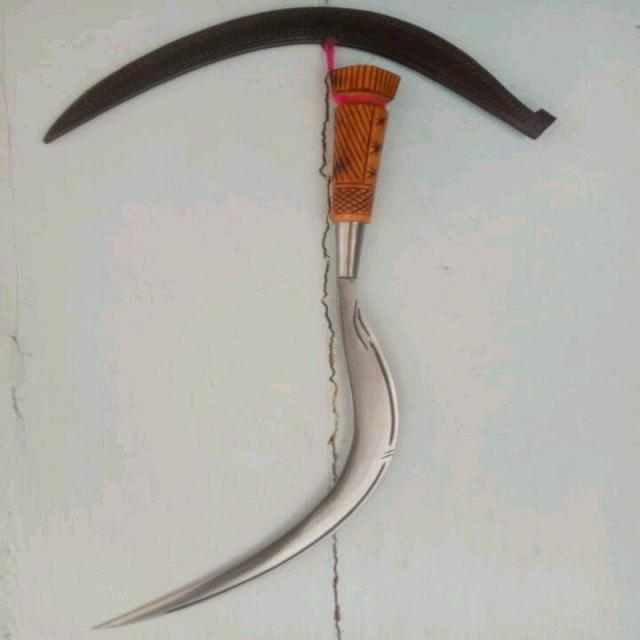machete: (89, 65, 407, 636)
